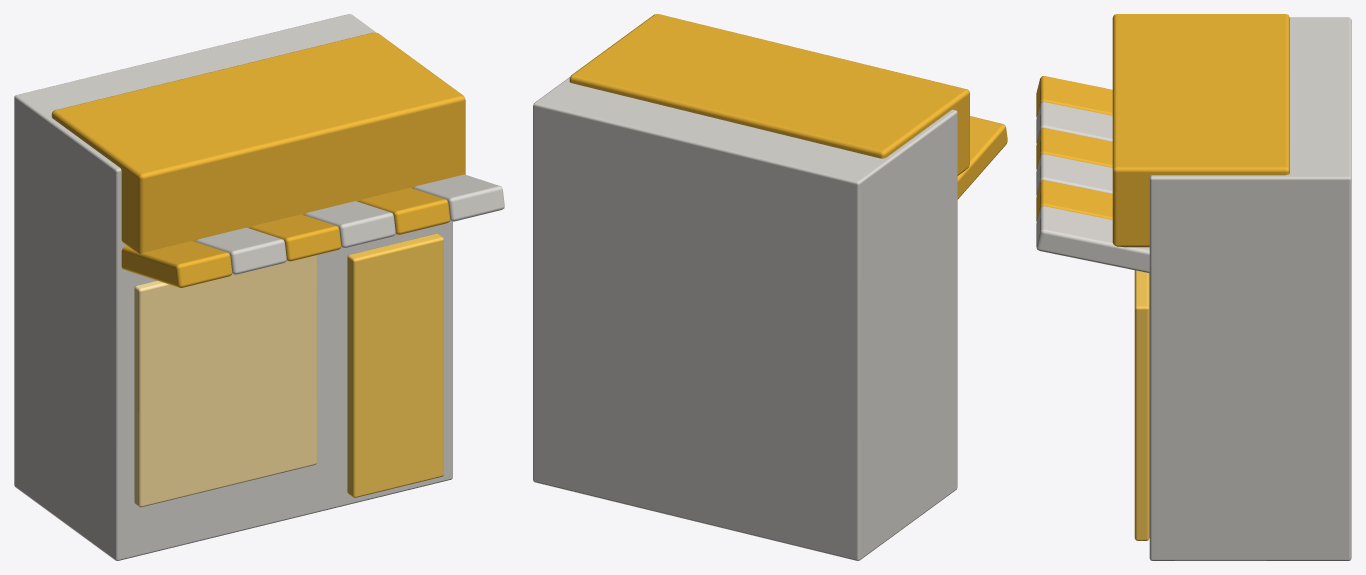
Rendered from mall-storefront.glb.
3 renders of one model, left to right at view 1: azimuth 30°, elevation 25°; view 2: azimuth 150°, elevation 25°; view 3: azimuth 270°, elevation 25°, orthographic. The views are drawn at different scales.
Visible parts, largest first — view 1: building, sign, window, door, awning-0, awning-3, awning-1, awning-4, awning-5, awning-2; view 2: building, sign, awning-0; view 3: building, sign, awning-5, door, awning-4, awning-3, awning-1, awning-2, awning-0.
Boxes of the visible parts, x1,y1,x2,y2 form: building: [14, 14, 452, 560]; sign: [51, 32, 465, 253]; window: [134, 255, 316, 507]; door: [347, 233, 443, 497]; awning-0: [121, 241, 232, 288]; awning-3: [304, 201, 395, 248]; awning-1: [195, 227, 286, 274]; awning-4: [359, 188, 450, 234]; awning-5: [413, 174, 504, 221]; awning-2: [250, 214, 341, 261]; building: [533, 77, 957, 560]; sign: [569, 14, 969, 175]; awning-0: [957, 116, 1007, 199]; building: [1149, 17, 1351, 560]; sign: [1112, 14, 1289, 247]; awning-5: [1036, 206, 1149, 273]; door: [1134, 270, 1149, 540]; awning-4: [1036, 180, 1112, 221]; awning-3: [1036, 154, 1112, 195]; awning-1: [1036, 102, 1112, 143]; awning-2: [1036, 128, 1112, 169]; awning-0: [1036, 76, 1112, 117].
Size of the model in its own units: 1.55 by 1.75 by 1.28.
